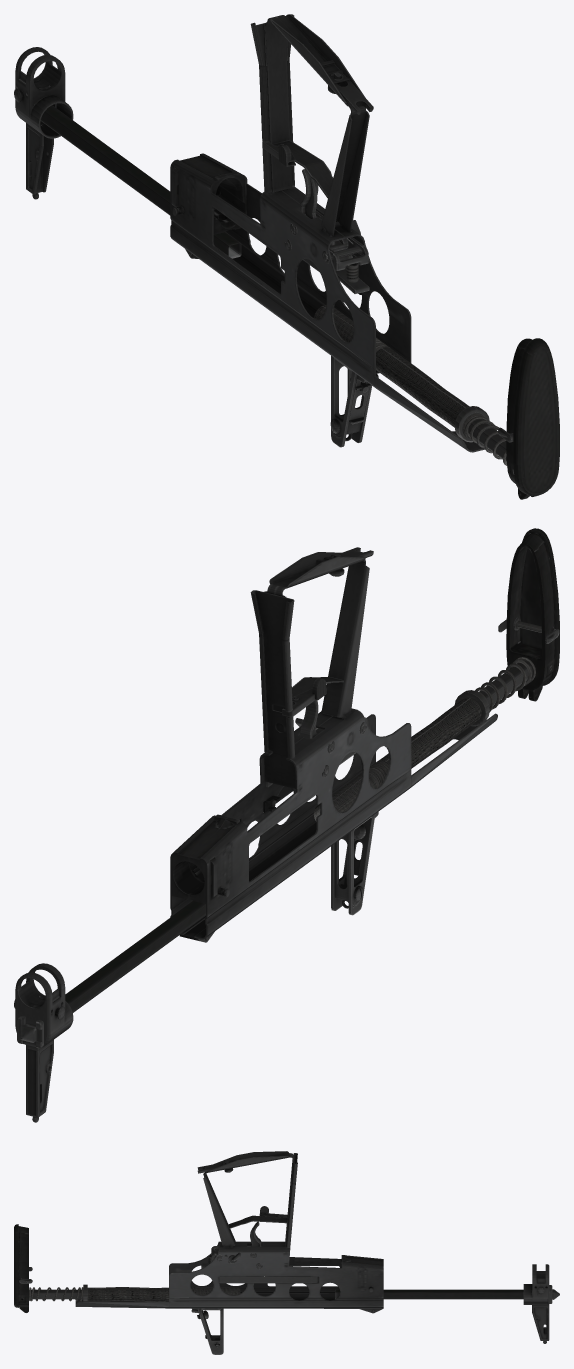
3 renders of one model, top to bottom at view 1: azimuth 30°, elevation 25°; view 2: azimuth 150°, elevation 25°; view 3: azimuth 270°, elevation 25°, orthographic. The views are drawn at different scales.
Parts seen in each view (by area): view 1: TW_66ffa9b66e19cc902401c5e8_PZ_Import; view 2: TW_66ffa9b66e19cc902401c5e8_PZ_Import; view 3: TW_66ffa9b66e19cc902401c5e8_PZ_Import.
Boxes of the visible parts, x1,y1,x2,y2 form: TW_66ffa9b66e19cc902401c5e8_PZ_Import: (14, 14, 559, 499); TW_66ffa9b66e19cc902401c5e8_PZ_Import: (14, 528, 559, 1122); TW_66ffa9b66e19cc902401c5e8_PZ_Import: (14, 1151, 559, 1354).
Bounding box in the file's own units: 0.0284 × 0.4541 × 0.1823.
Materials: 1 (1 with a texture image).
